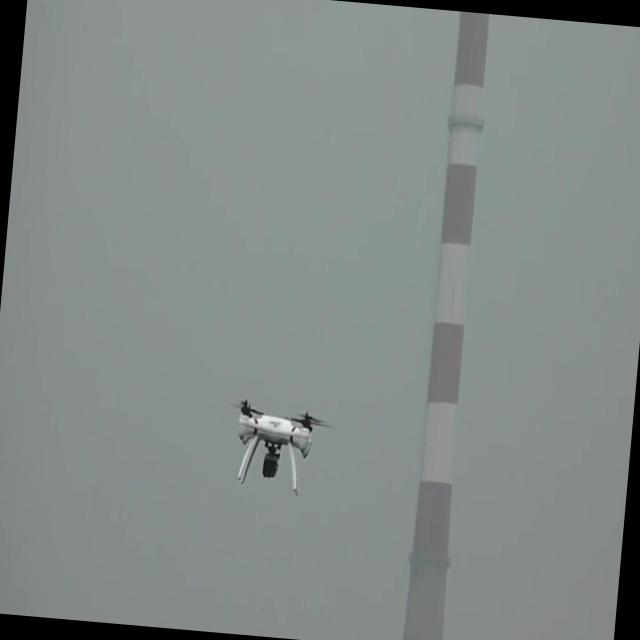drone: (226, 396, 322, 501)
